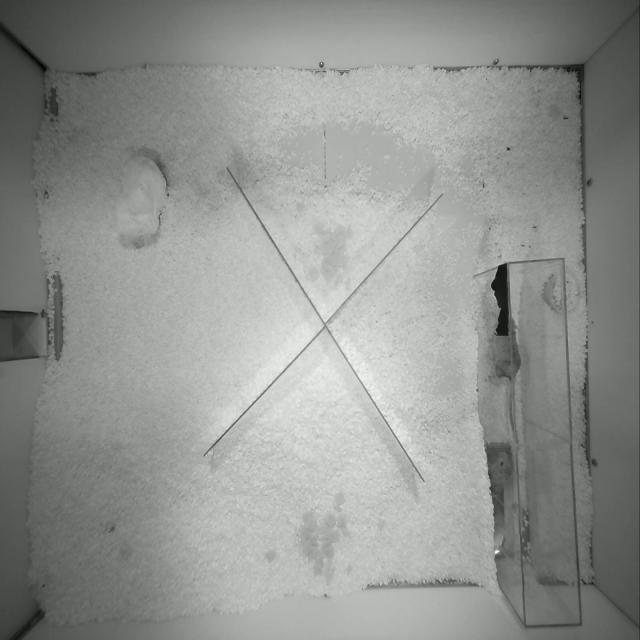adult_back: (493, 325, 520, 432)
adult_front: (488, 453, 512, 493)
